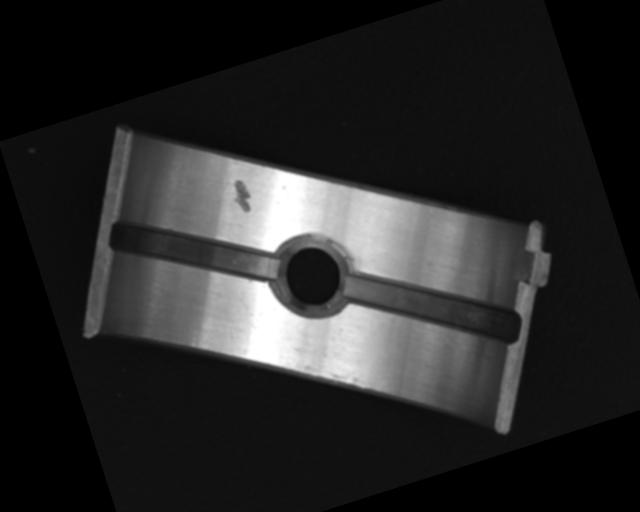bruise: (227, 175, 256, 216)
gap: (341, 229, 523, 385), (104, 177, 281, 321)
hole: (266, 223, 357, 323)
